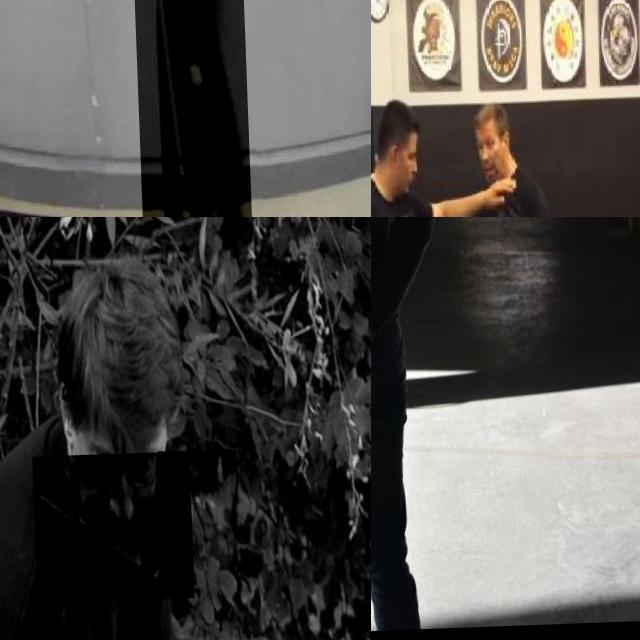-: (120, 0, 247, 217), (371, 331, 398, 494)
gun-knife-thesis - v11 Yolov5 augmented: (30, 454, 192, 605)
